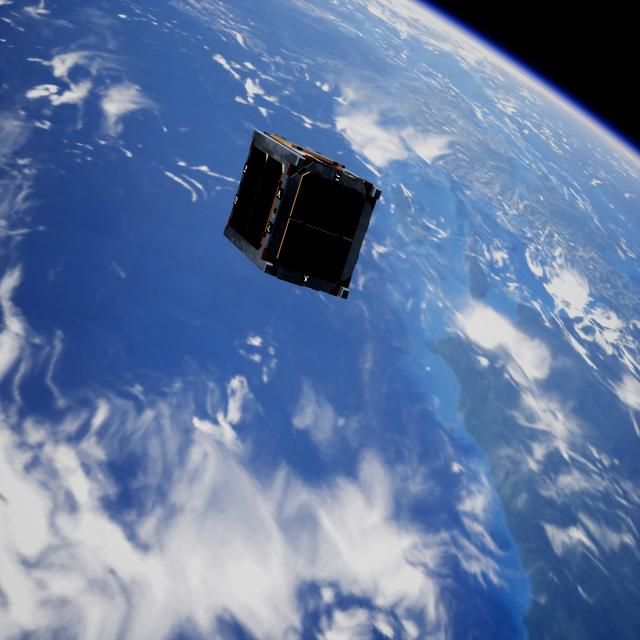satellite: (218, 118, 382, 304)
